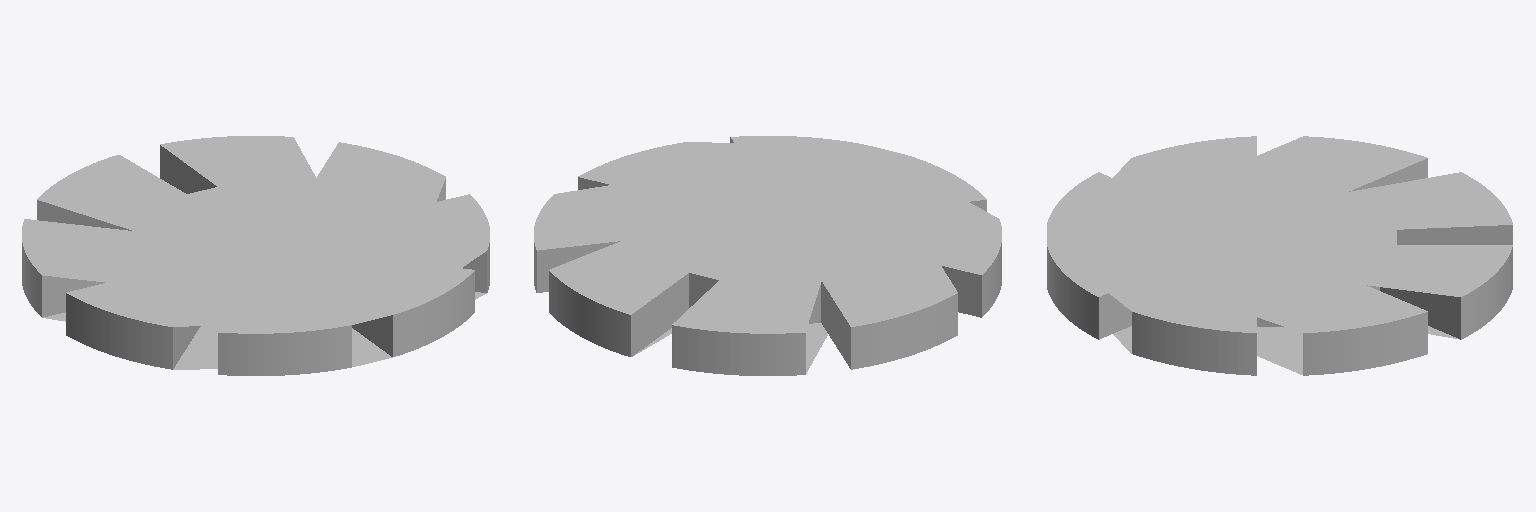
The model's file is festivalmunt_30_x_3_mm.obj.
3 views of the same model, side by side, from view 1: azimuth 30°, elevation 25°; view 2: azimuth 150°, elevation 25°; view 3: azimuth 270°, elevation 25° (orthographic).
Visible parts, largest first — view 1: Cylinder; view 2: Cylinder; view 3: Cylinder.
Part boxes in pixels (x1,y1,x2,y2): Cylinder: (22,136,489,375); Cylinder: (534,136,1001,375); Cylinder: (1047,136,1512,375).
Size of the model in its own units: 0.0298 by 0.003 by 0.0298.